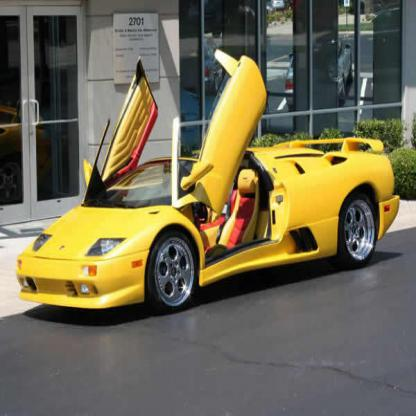Vehicle: (15, 45, 402, 329)
